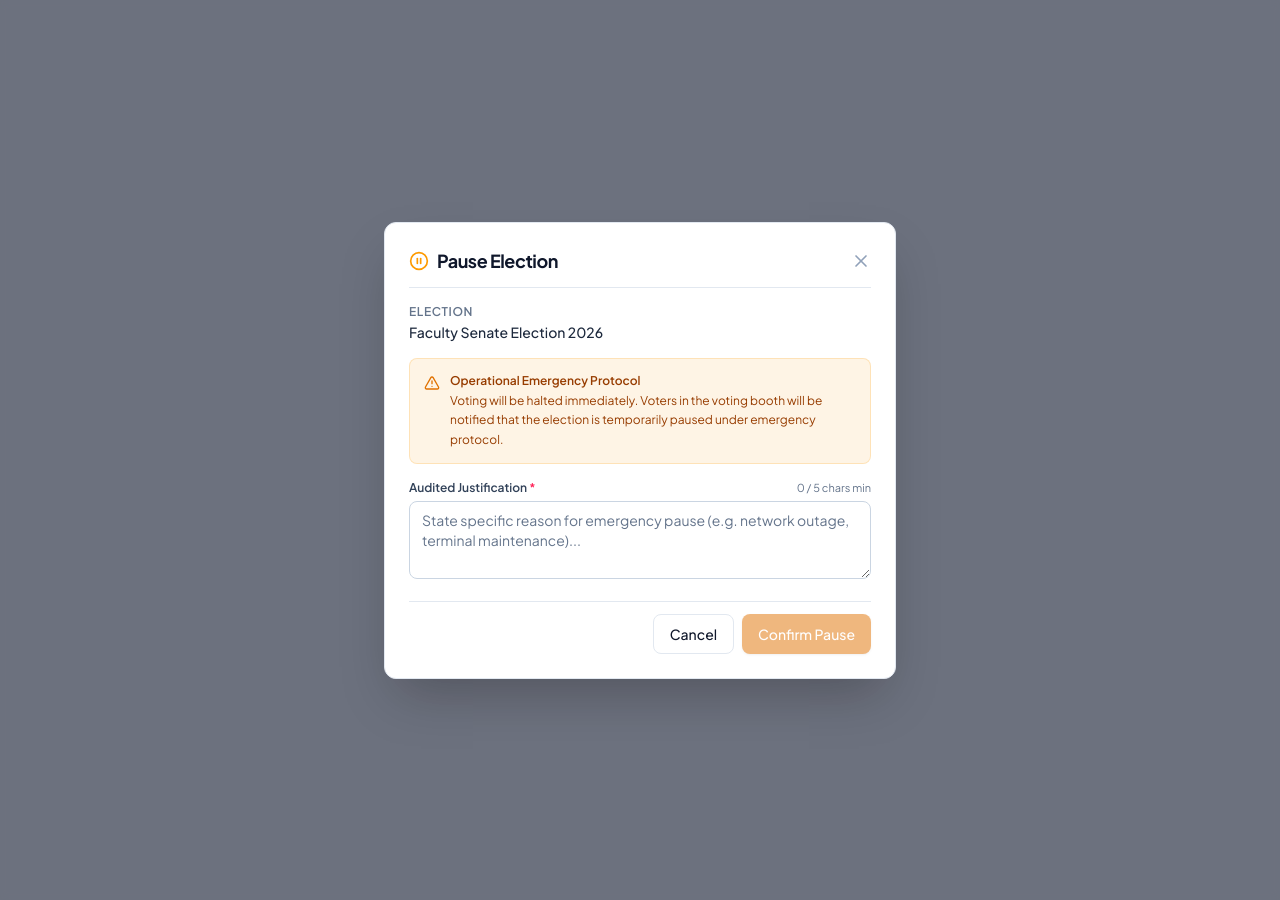
Test: Emergency Controls UI Components › EmergencyControlModal › renders pause modal with election title, warning note, and disabled submit button when reason is short
The image size is (1280, 900).
Expected: the heading "Pause Election" is shown, [437, 246, 558, 274]
Expected: the text "Faculty Senate Election 2026" is shown, [409, 322, 603, 340]
Step 1. Replace the text in the text box with placeholder "reason" with "Netw" → (640, 540), box [409, 500, 871, 578]
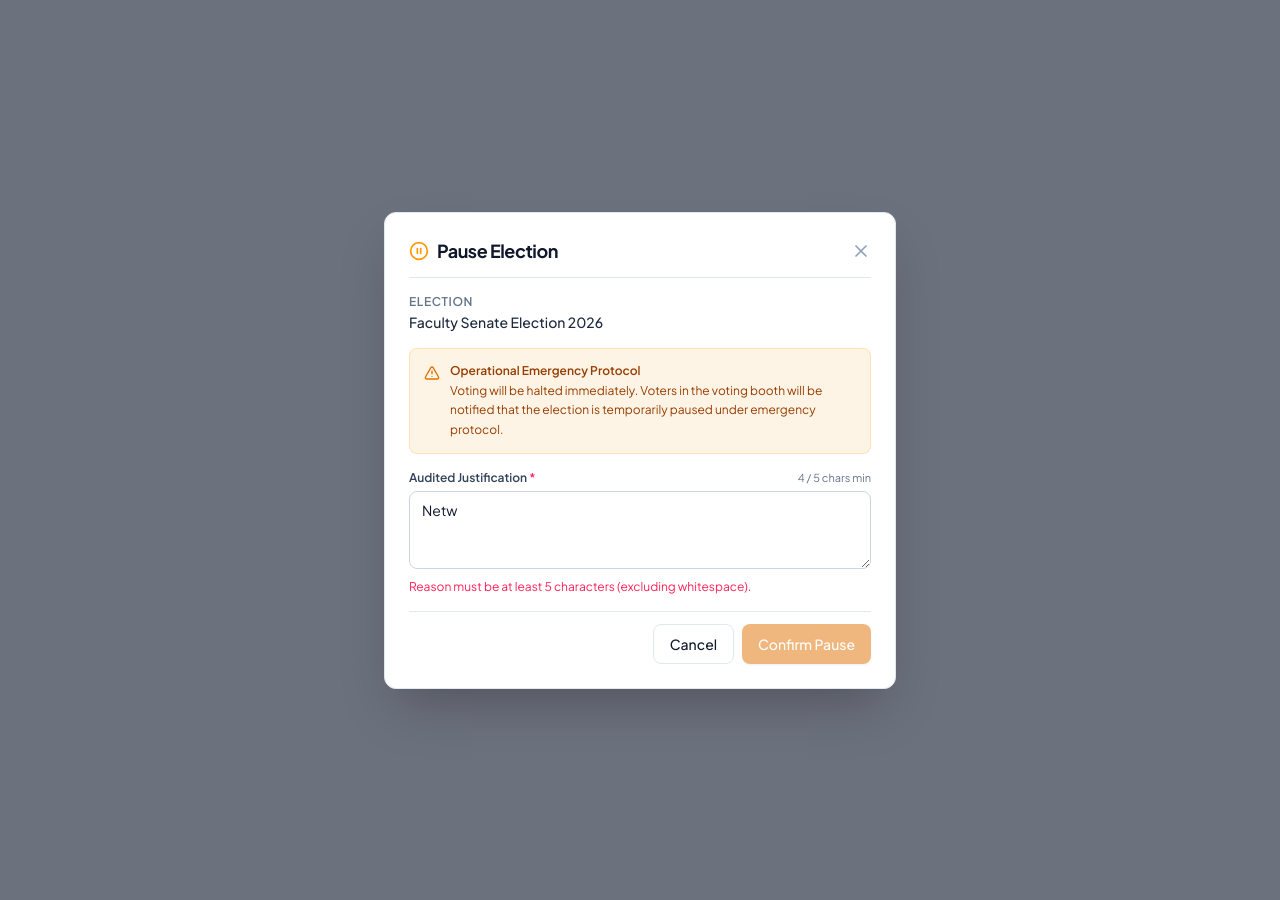
Expected: the button "Confirm Pause" is disabled, [742, 624, 871, 664]
Step 2. Replace the text in the text box with placeholder "reason" with "Network failure at terminal" → (640, 530), box [409, 490, 871, 568]
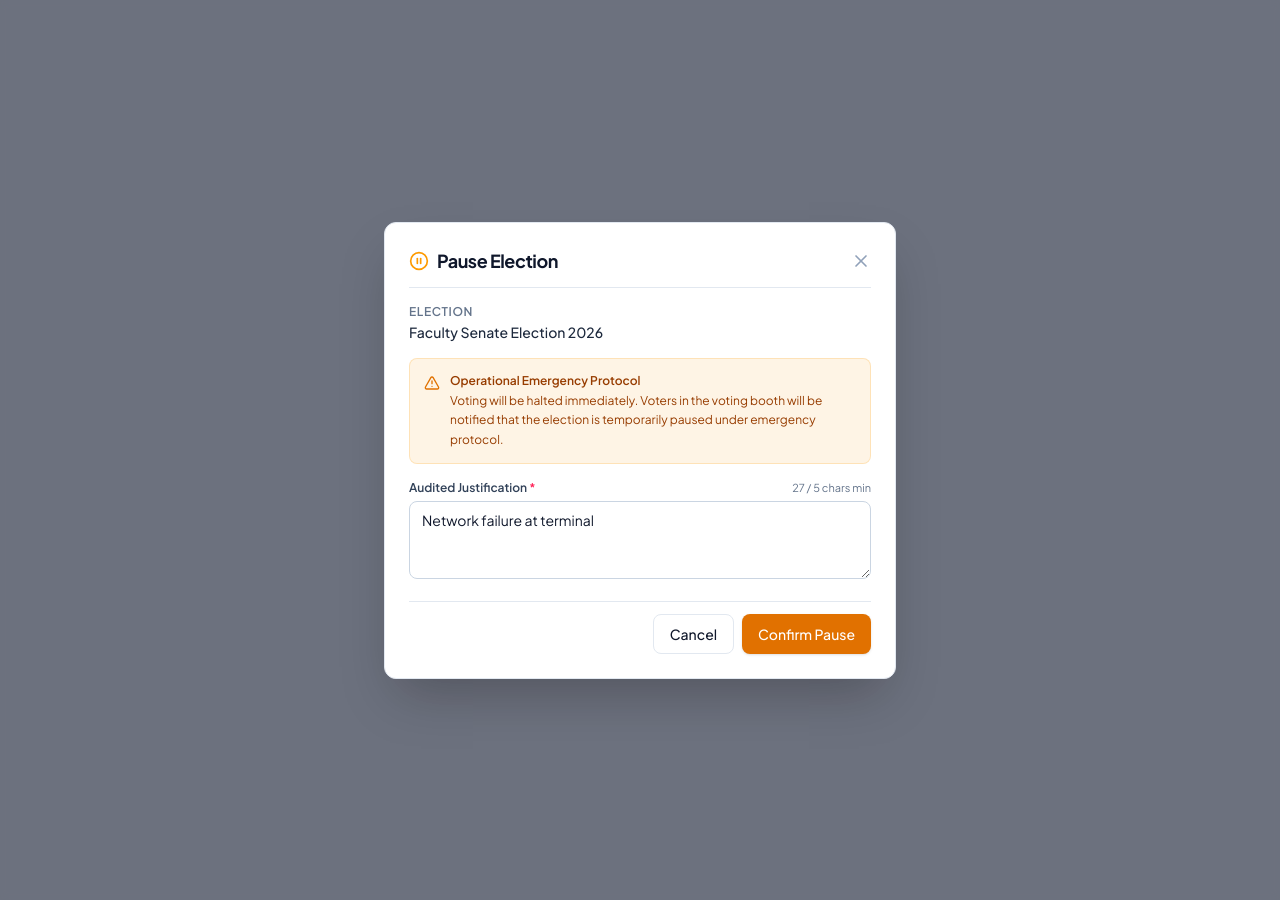
Expected: the button "Confirm Pause" is enabled, [742, 614, 871, 654]
